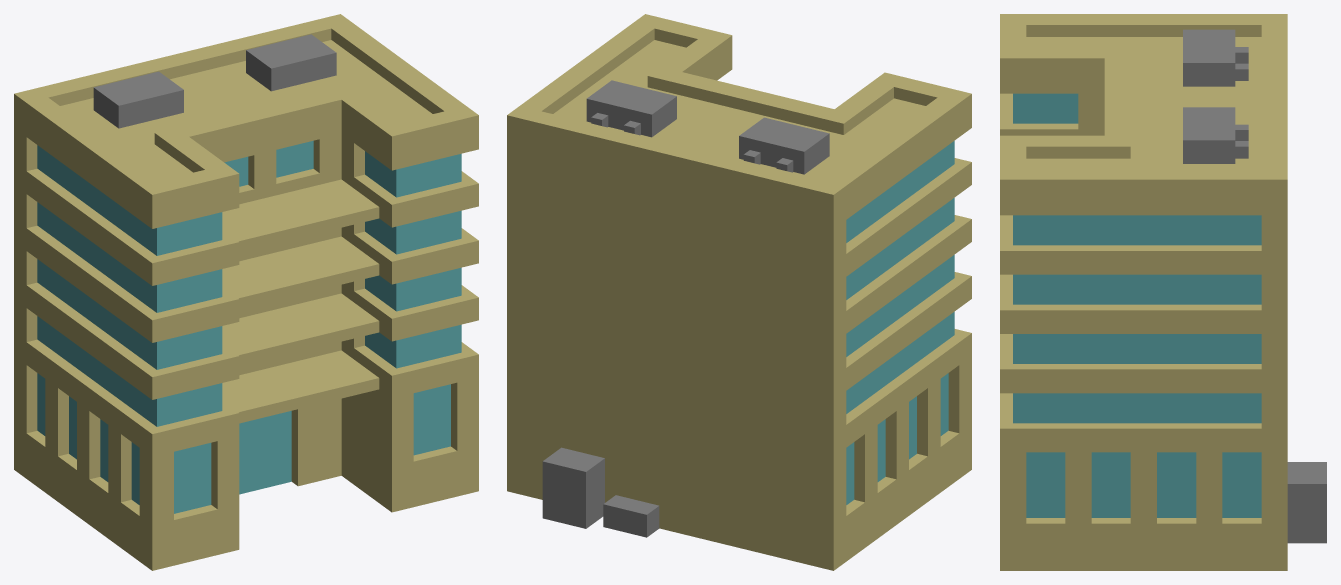
The model's file is Building06.fbx.
3 views of the same model, side by side, from view 1: azimuth 30°, elevation 25°; view 2: azimuth 150°, elevation 25°; view 3: azimuth 270°, elevation 25° (orthographic). The views are drawn at different scales.
Visible parts, largest first — view 1: ObjObject.009; view 2: ObjObject.009; view 3: ObjObject.009.
Boxes of the visible parts, <box> form: ObjObject.009: <box>14,14,478,570</box>; ObjObject.009: <box>507,14,971,570</box>; ObjObject.009: <box>1000,14,1326,570</box>.
Bounding box in the file's own units: 300 × 250 × 340.
Materials: 1 (1 with a texture image).
